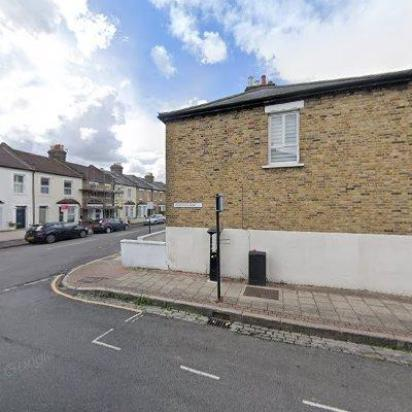stationary-car-onstreet: (25, 221, 87, 245), (92, 217, 130, 234), (142, 214, 166, 226)
